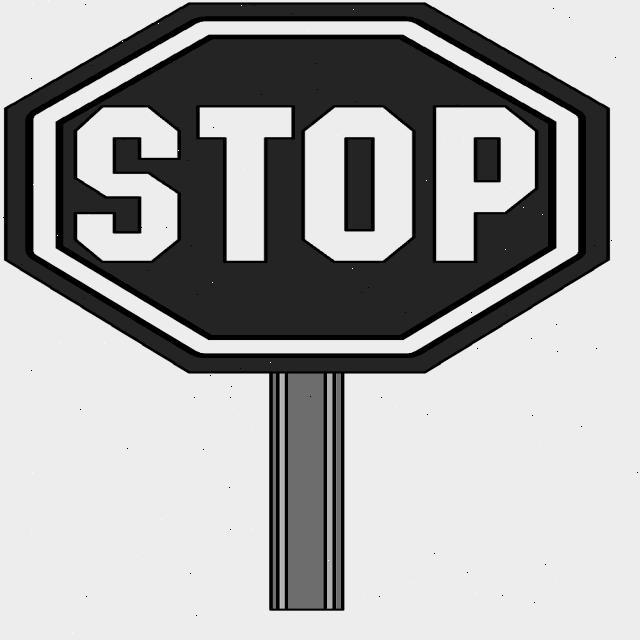Stop-sign: (0, 0, 620, 383)
